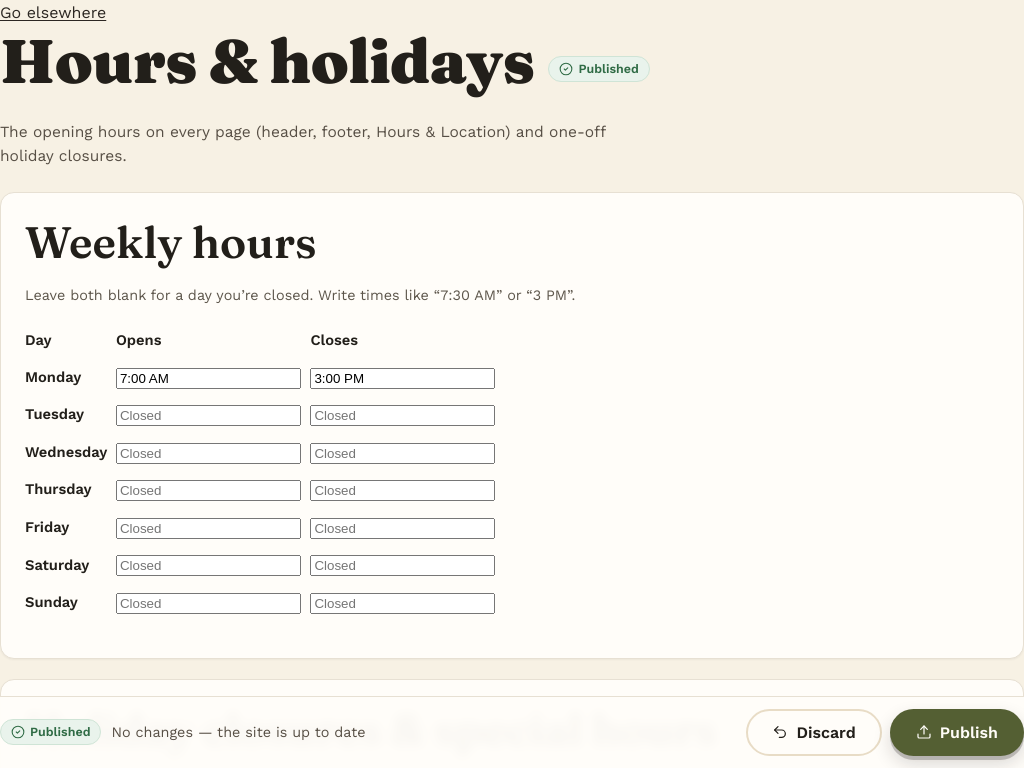
Test: Hours & holidays › editing a time writes nothing; Publish upserts the week once
Replace the text in the field named "Monday opens" with "6:30 AM". click: [208, 378]
box: [116,368,301,388]
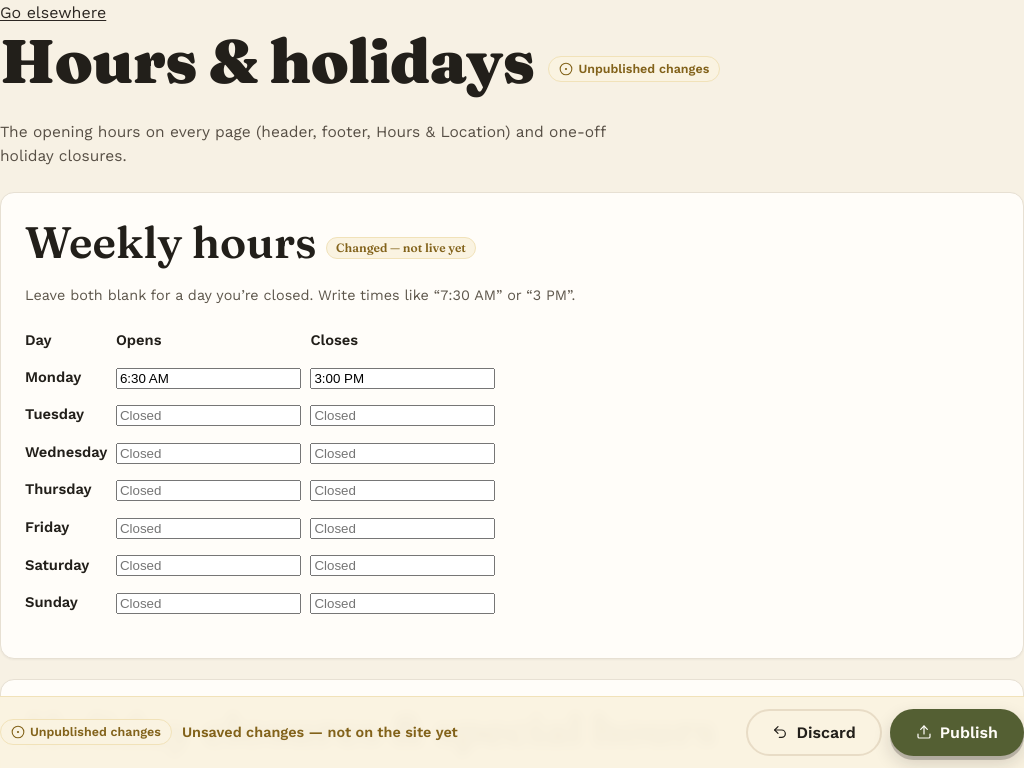
Click the button "Publish". click: [957, 732]
box: [890,709,1023,756]
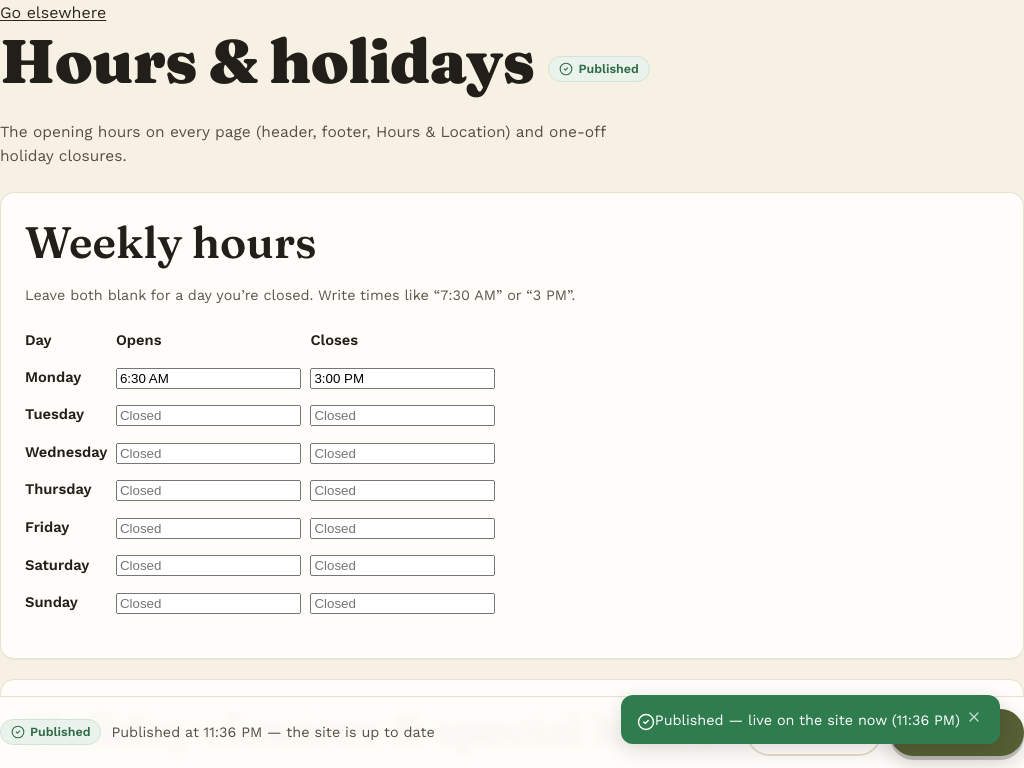
Expected: the text "Published — live on the site now (11:36 PM)" is shown, [655,712,960,728]
